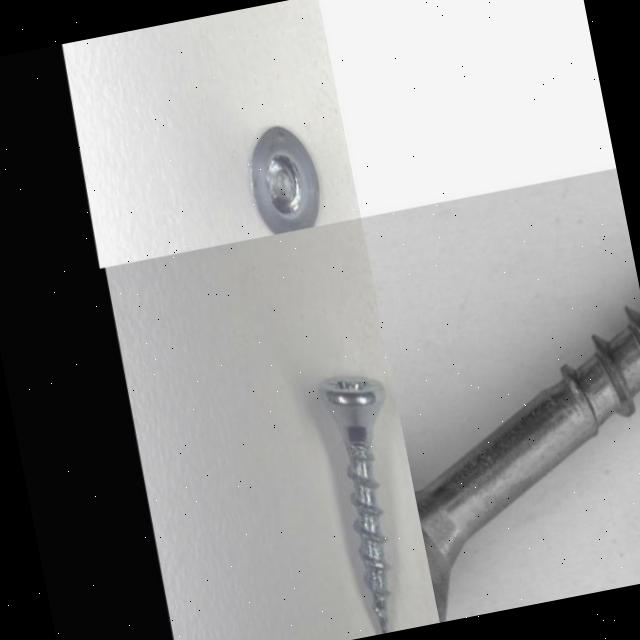Screw: (368, 206, 640, 623), (320, 378, 390, 634), (251, 129, 319, 234)
